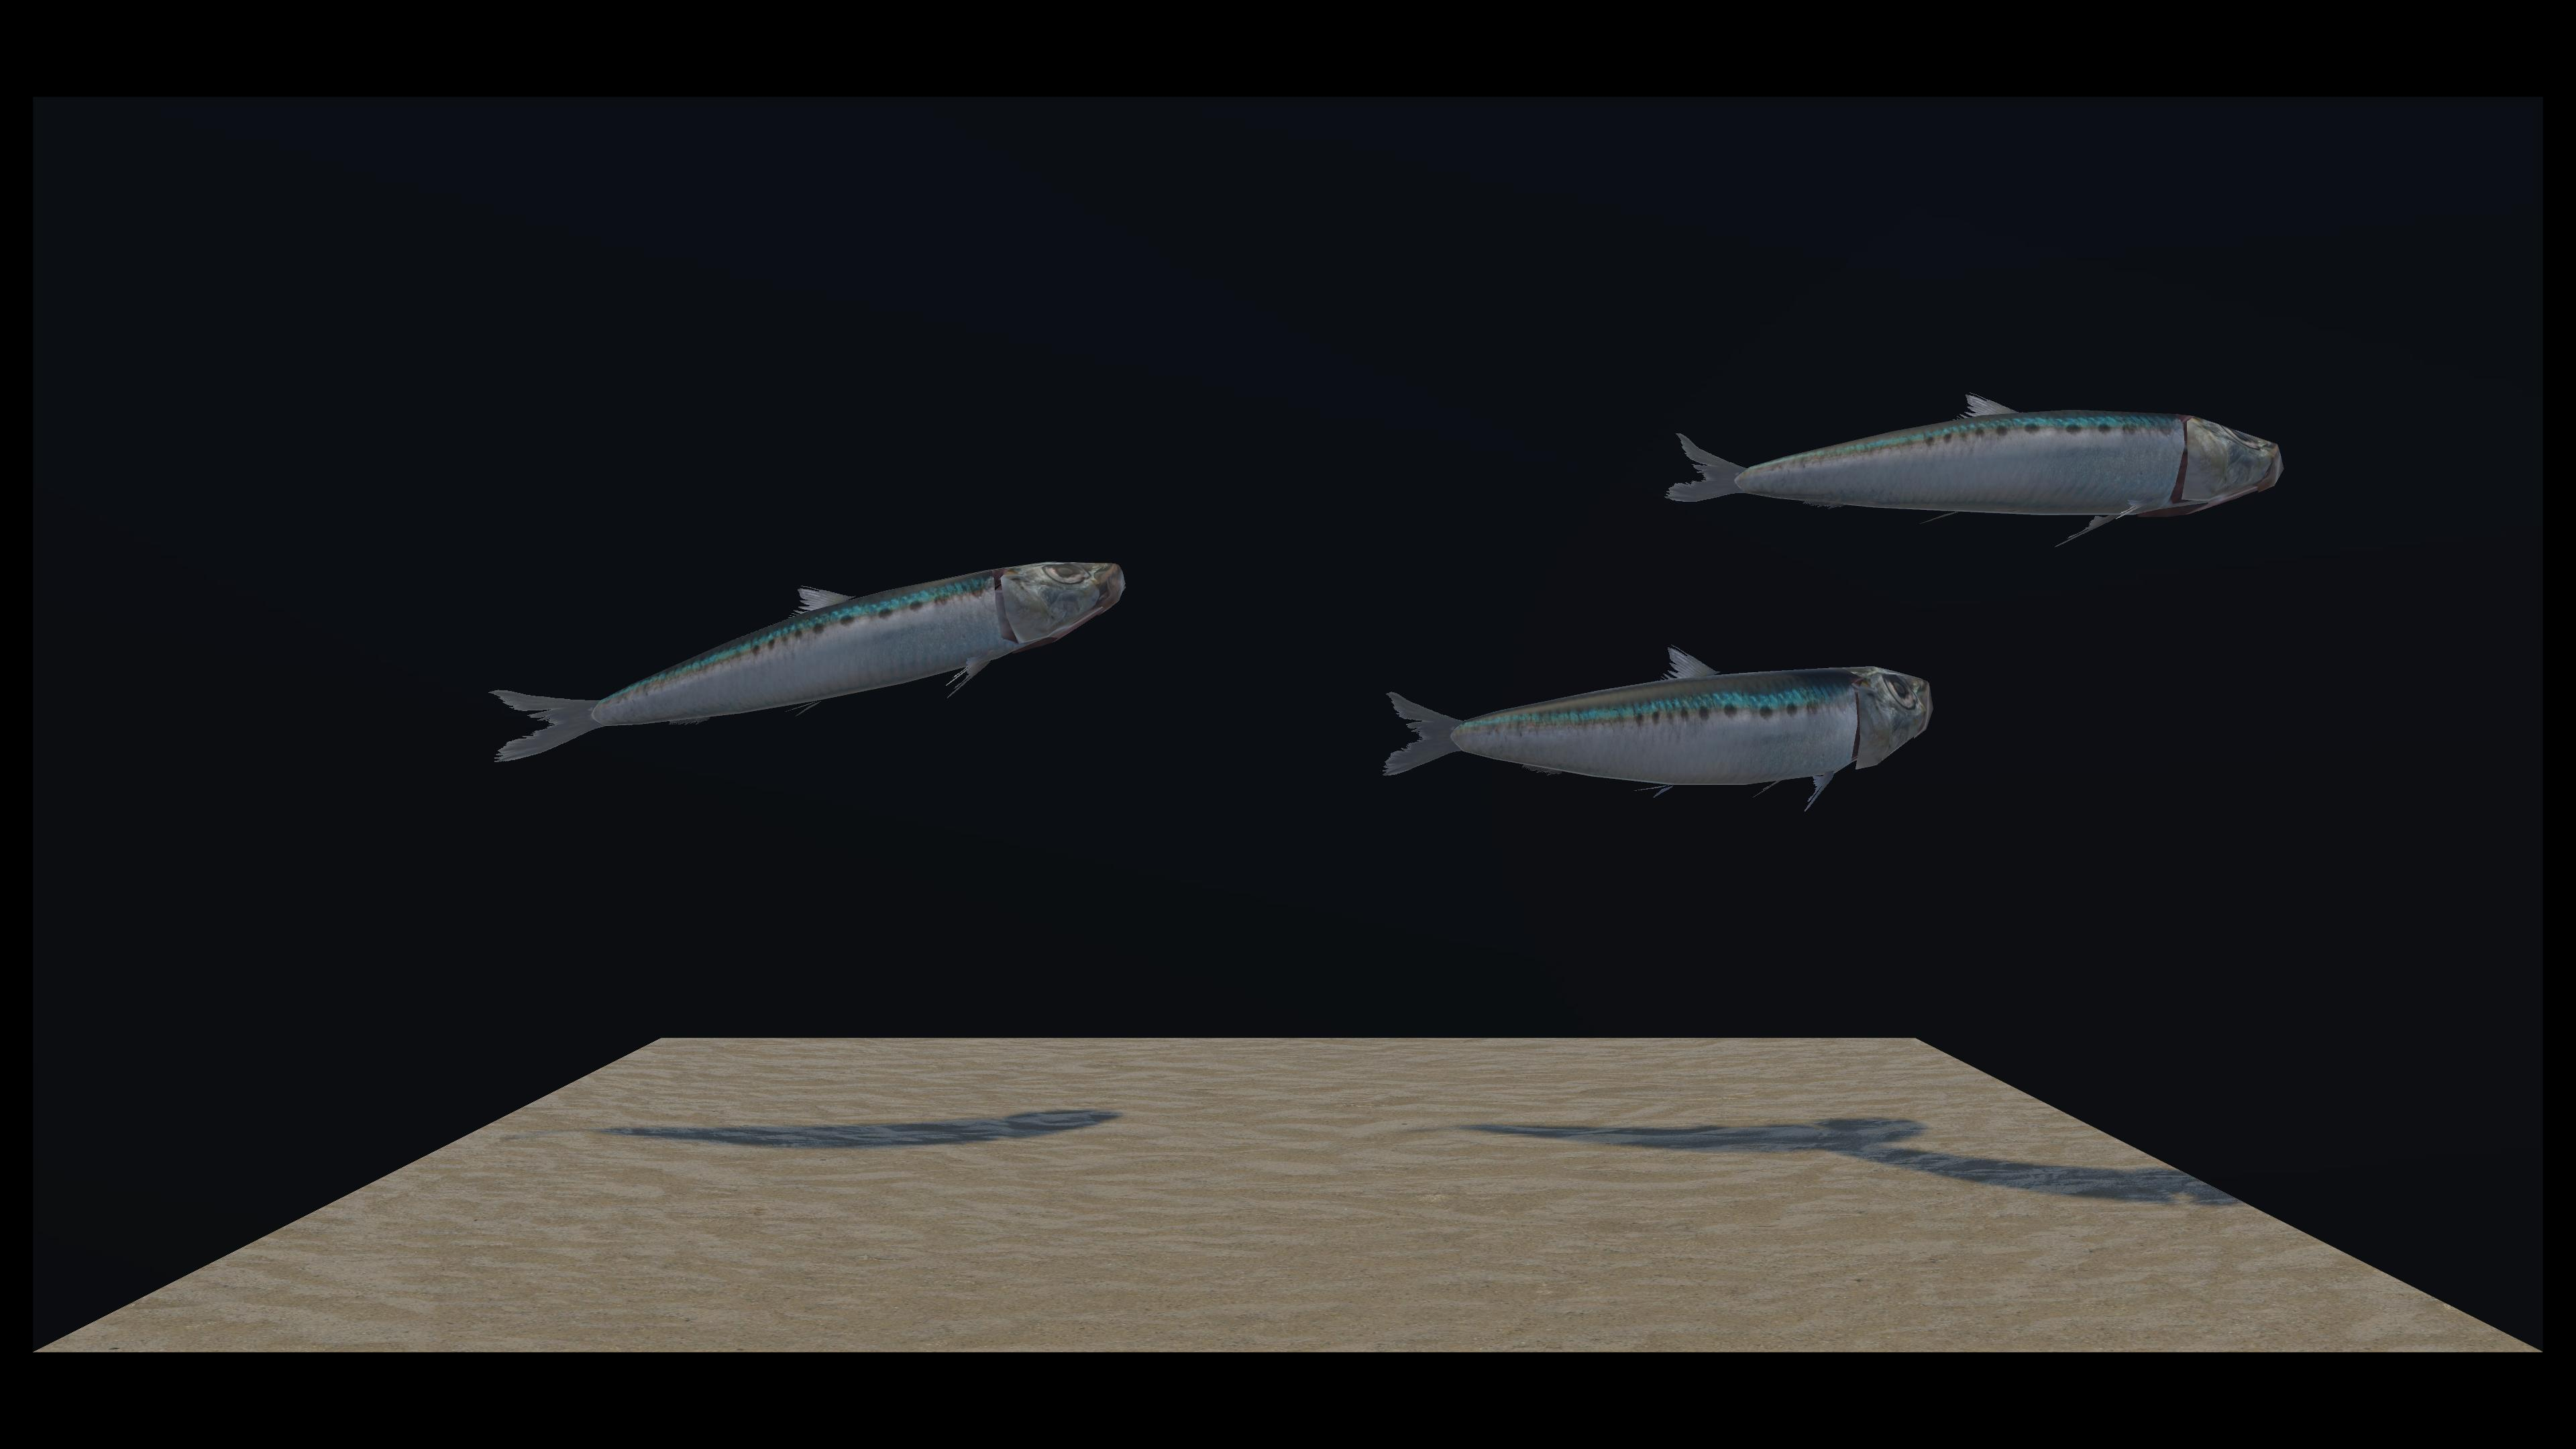Sardine_Front: (791, 352, 1920, 816), (833, 334, 2266, 557), (502, 453, 1113, 761)
